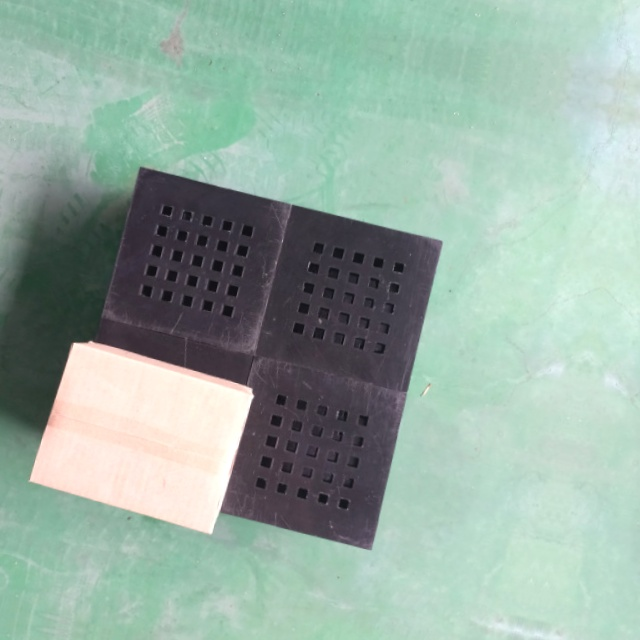box: (25, 335, 253, 537)
pallet: (38, 158, 447, 560)
